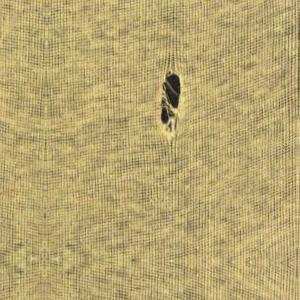hole: (153, 66, 192, 136)
